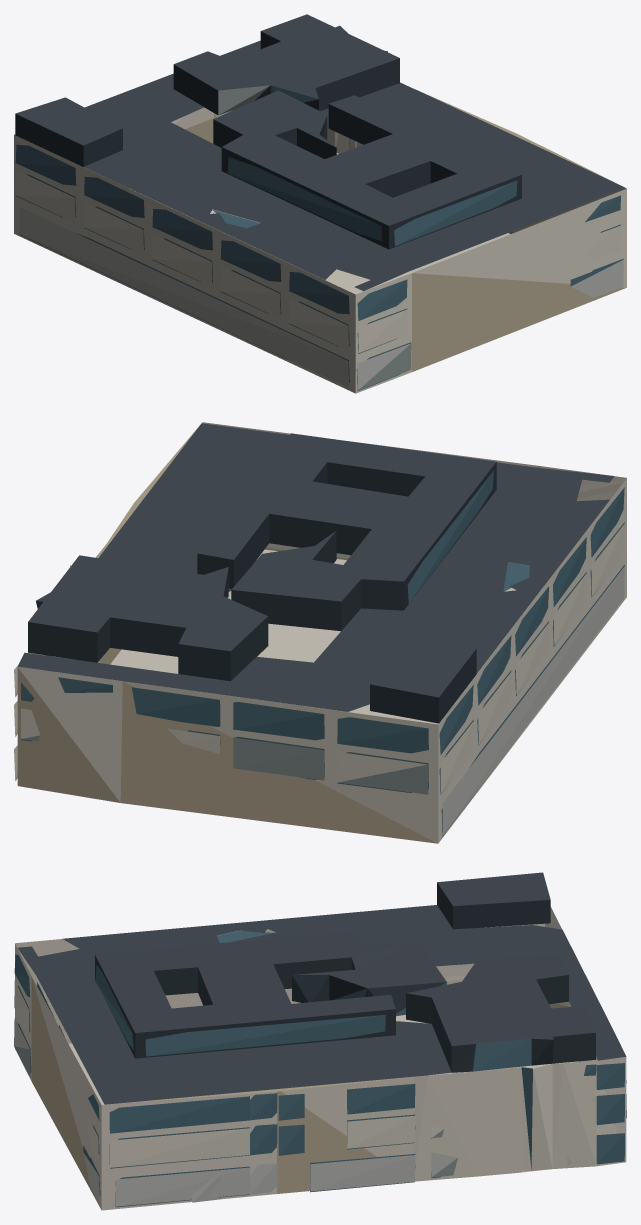
Rendered from beta-boulders.lod2.glb.
The picture shows the model from 3 angles, top to bottom: view 1: azimuth 30°, elevation 25°; view 2: azimuth 150°, elevation 25°; view 3: azimuth 270°, elevation 25°; orthographic projection. The views are drawn at different scales.
Parts seen in each view (by area): view 1: lod2; view 2: lod2; view 3: lod2.
Boxes of the visible parts, x1=… form: lod2: x1=14, y1=14, x2=626, y2=393; lod2: x1=14, y1=422, x2=626, y2=843; lod2: x1=14, y1=872, x2=626, y2=1210.
Size of the model in its own units: 64.22 by 18.88 by 79.2.
